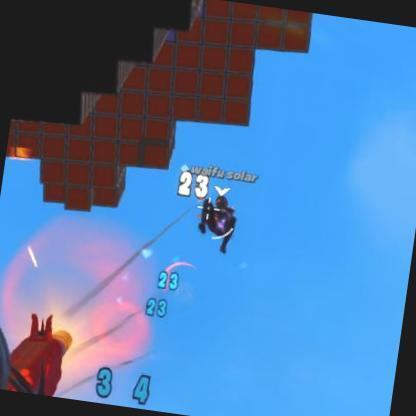person: (200, 188, 242, 248)
